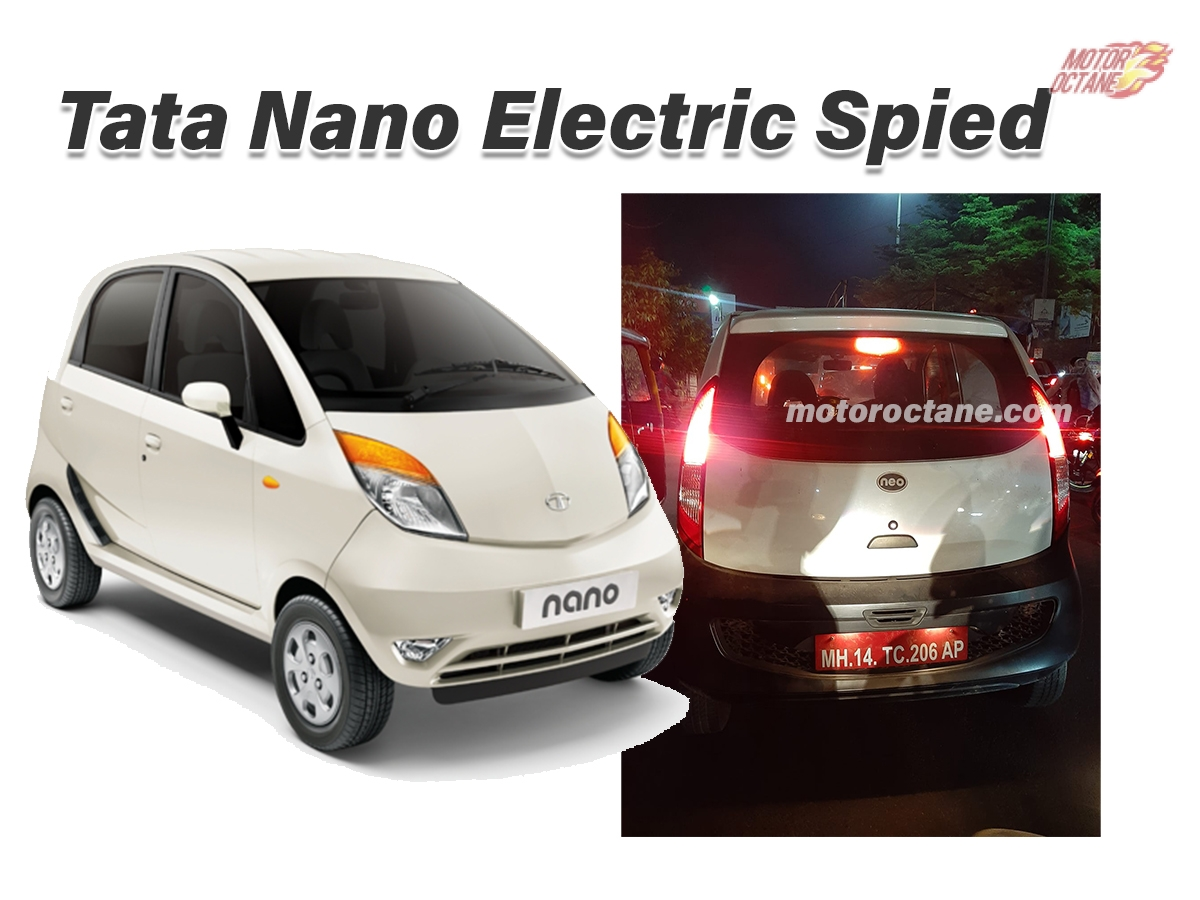Nano: (24, 251, 687, 742)
